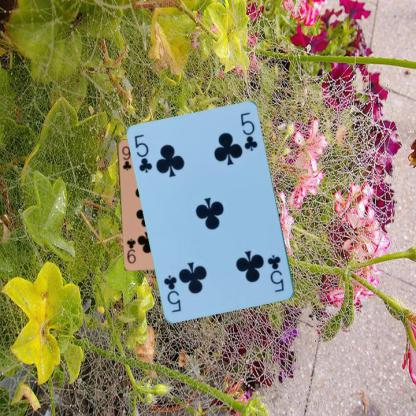5c: (132, 132, 154, 174), (265, 252, 286, 293)
9c: (119, 143, 132, 172)
